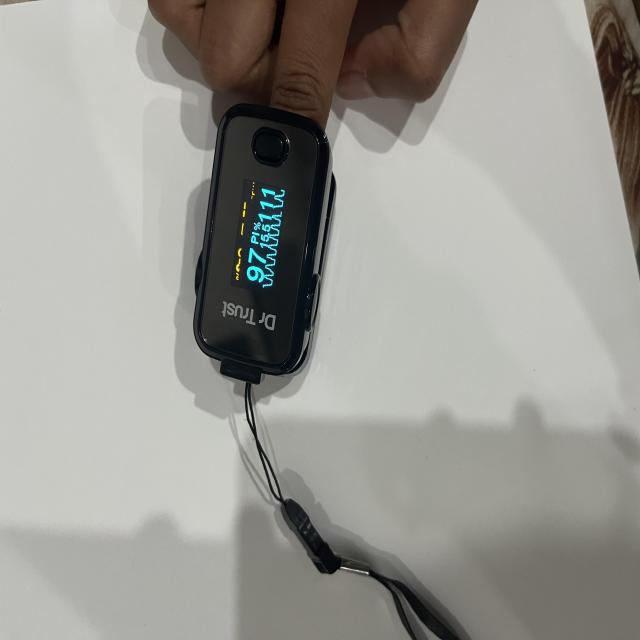spo2: (192, 105, 335, 389)
